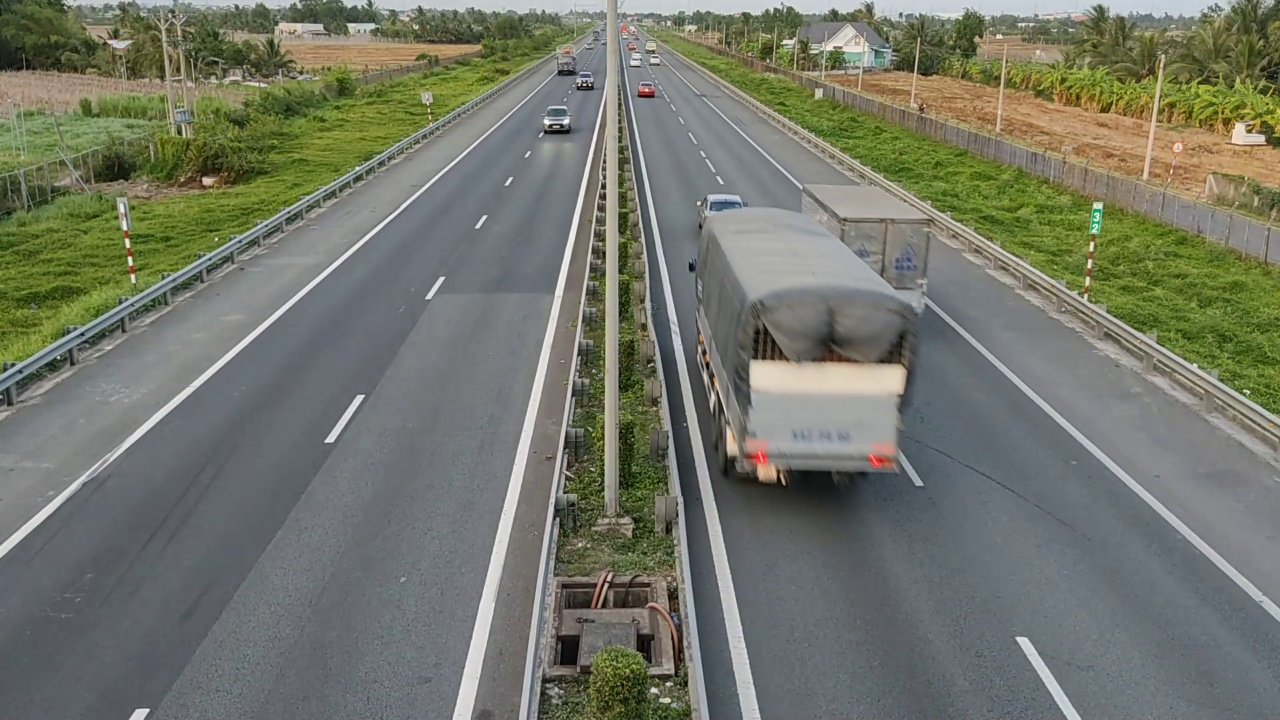car: (541, 105, 573, 134), (575, 71, 595, 89)
truck: (692, 203, 921, 491)
